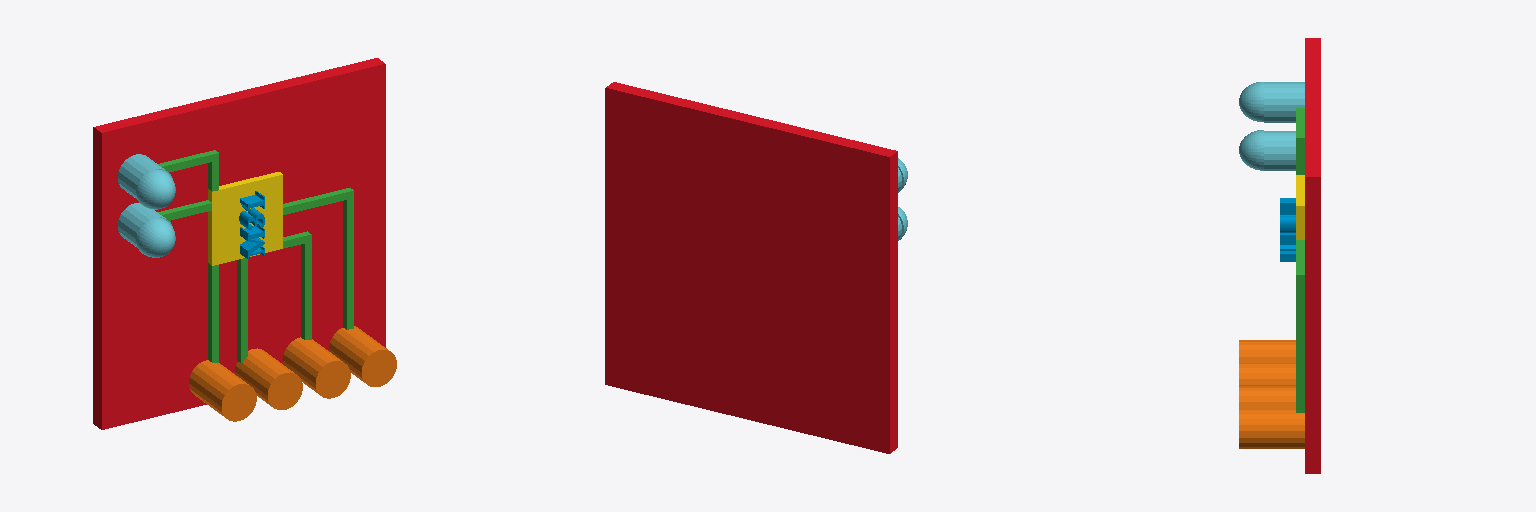
File: tinker.obj
3 renders of one model, left to right at view 1: azimuth 30°, elevation 25°; view 2: azimuth 150°, elevation 25°; view 3: azimuth 270°, elevation 25°, orthographic.
Visible parts, largest first — view 1: obj_0; view 2: obj_0; view 3: obj_0.
Part boxes in pixels (x1,y1,x2,y2): obj_0: (93,58,396,429); obj_0: (605,82,907,453); obj_0: (1239,38,1320,473).
Bounding box in the file's own units: 40 × 40 × 10.